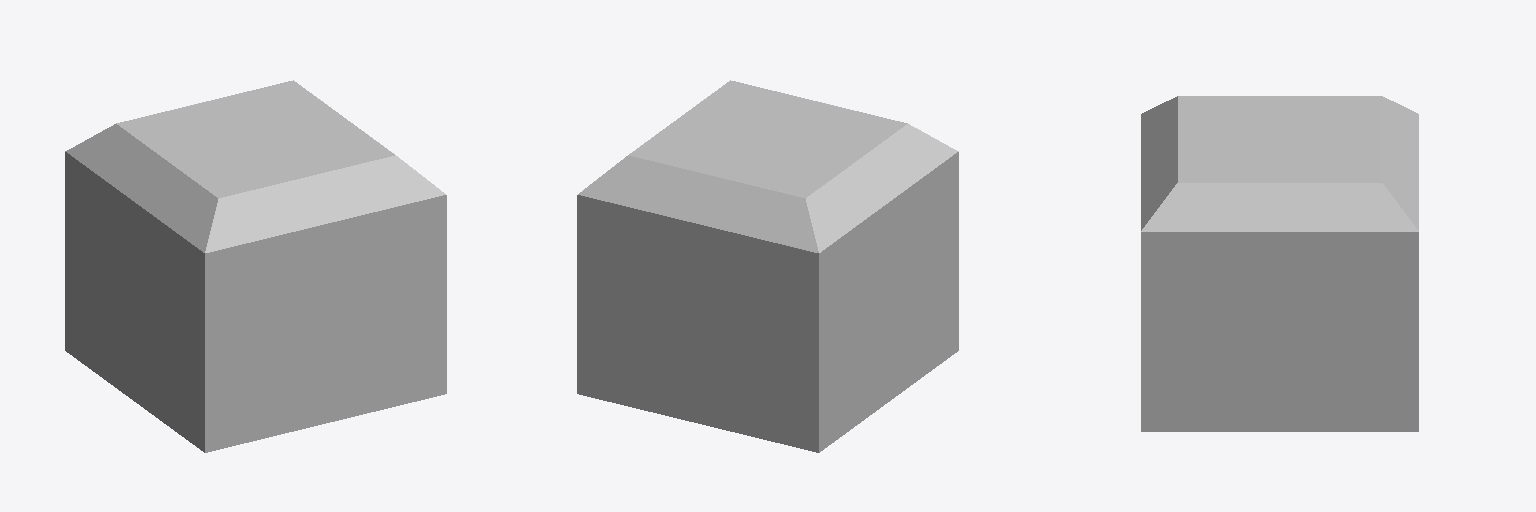
File: casa.obj
3 views of the same model, side by side, from view 1: azimuth 30°, elevation 25°; view 2: azimuth 150°, elevation 25°; view 3: azimuth 270°, elevation 25° (orthographic).
Parts seen in each view (by area): view 1: Cube_Cube.001; view 2: Cube_Cube.001; view 3: Cube_Cube.001.
Part boxes in pixels (x1,y1,x2,y2): Cube_Cube.001: (65, 80, 446, 452); Cube_Cube.001: (577, 80, 958, 452); Cube_Cube.001: (1141, 96, 1418, 431).
Bounding box in the file's own units: 2.17 × 2 × 2.17.